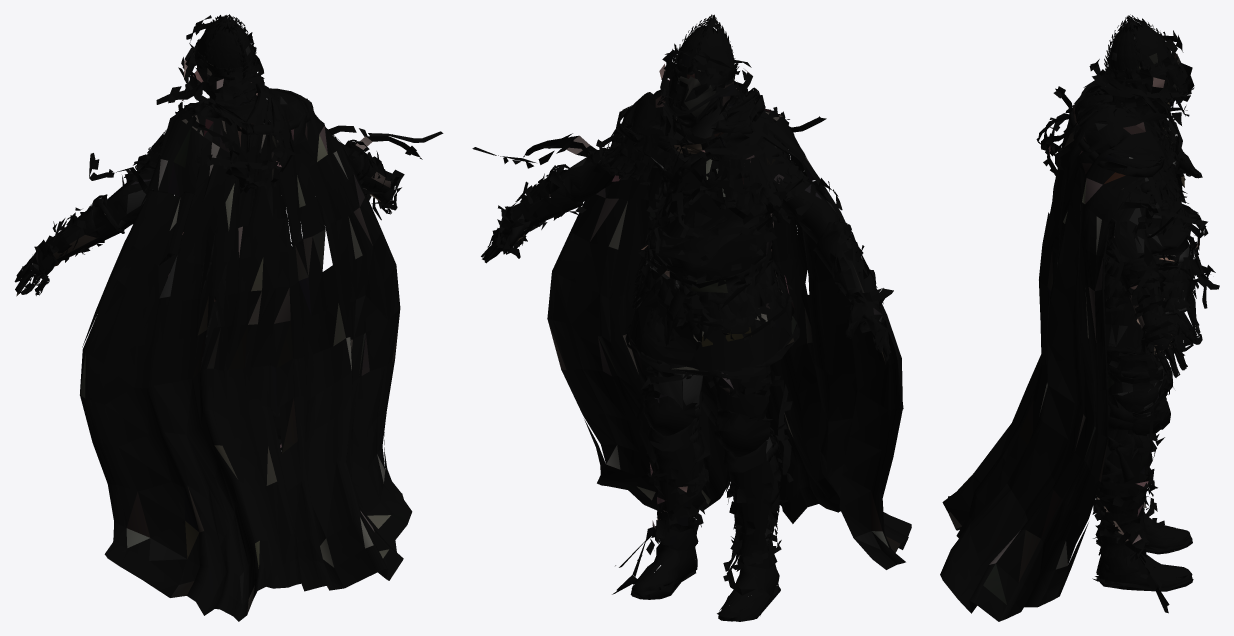
3 renders of one model, left to right at view 1: azimuth 30°, elevation 25°; view 2: azimuth 150°, elevation 25°; view 3: azimuth 270°, elevation 25°, orthographic. The views are drawn at different scales.
Visible parts, largest first — view 1: mesh_0; view 2: mesh_0; view 3: mesh_0.
Part boxes in pixels (x1,y1,x2,y2): mesh_0: [14, 14, 443, 621]; mesh_0: [472, 14, 911, 621]; mesh_0: [940, 14, 1219, 621].
Size of the model in its own units: 60.34 by 76.76 by 34.71.
Materials: 1 (1 with a texture image).
